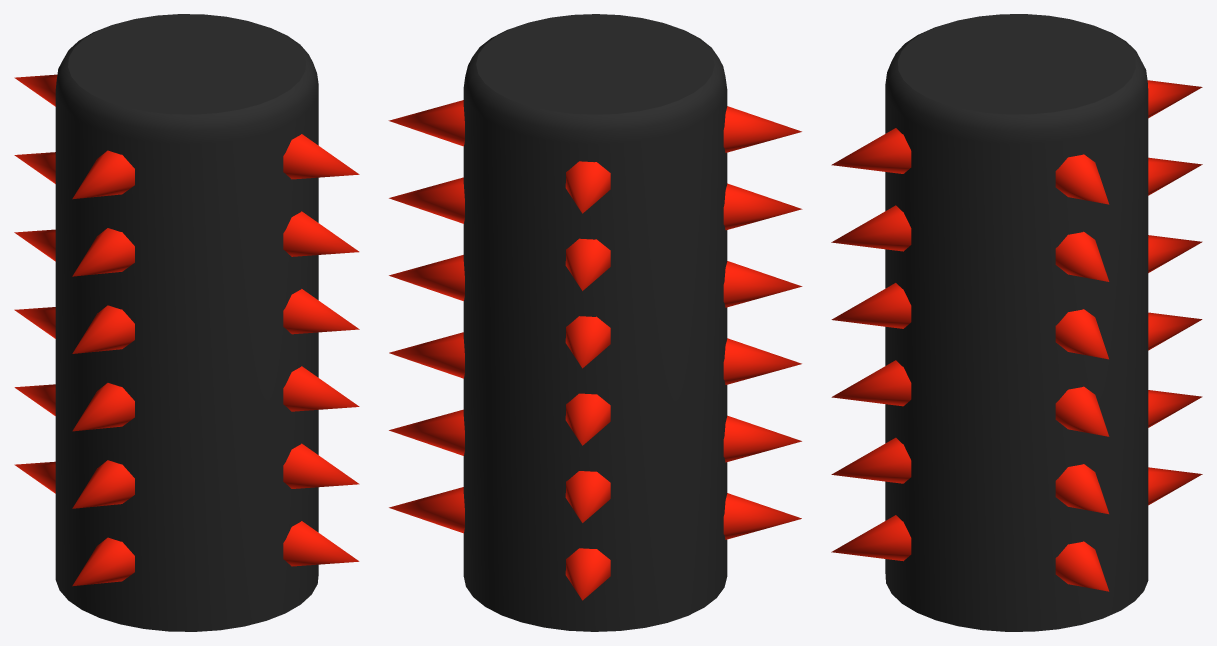
The model's file is CilinderObstacle.fbx.
The picture shows the model from 3 angles, left to right: view 1: azimuth 30°, elevation 25°; view 2: azimuth 150°, elevation 25°; view 3: azimuth 270°, elevation 25°; orthographic projection.
Parts seen in each view (by area): view 1: CylinderObstacle; view 2: CylinderObstacle; view 3: CylinderObstacle.
Boxes of the visible parts, x1=… form: CylinderObstacle: x1=14, y1=14, x2=359, y2=631; CylinderObstacle: x1=388, y1=14, x2=802, y2=631; CylinderObstacle: x1=831, y1=14, x2=1202, y2=631.
Size of the model in its own units: 180 by 273 by 180.
